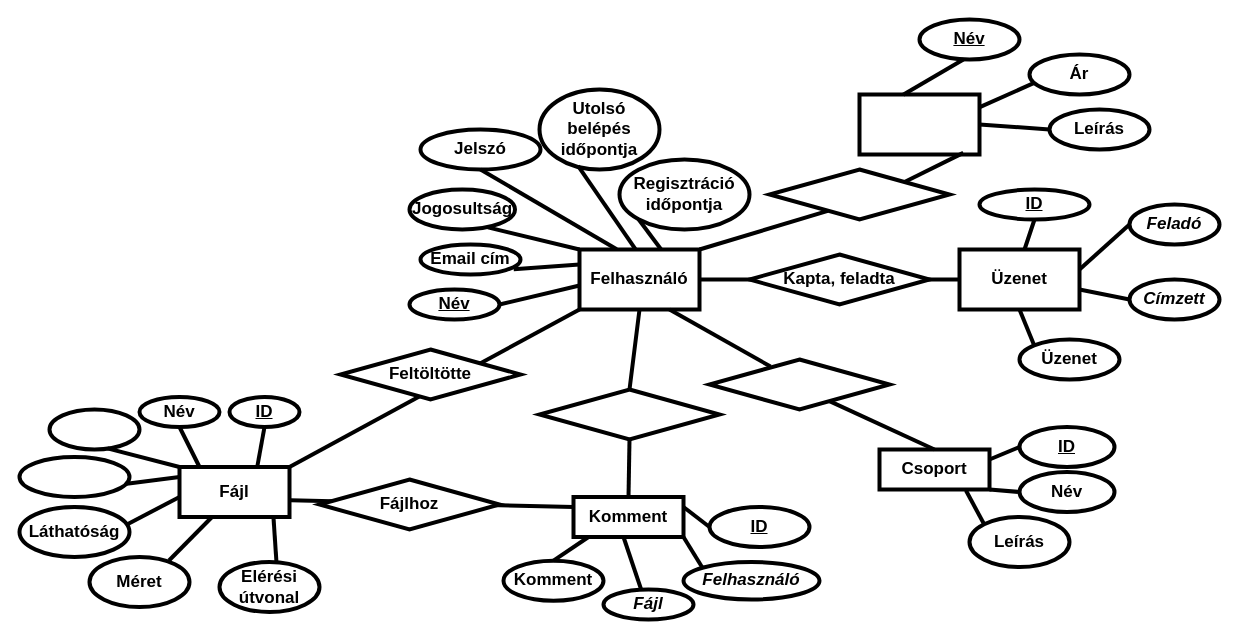
The diagram is 1238 pixels wide and 638 high, and some of its shapes have lost their labels. The centre of each missing label's shape, as x and y in pixels:
Előfizet: (859,194)
Feltöltő: (94,429)
Mappa-e: (74,476)
Szolgáltatás: (919,124)
Tagja: (799,384)
Írta: (629,414)
